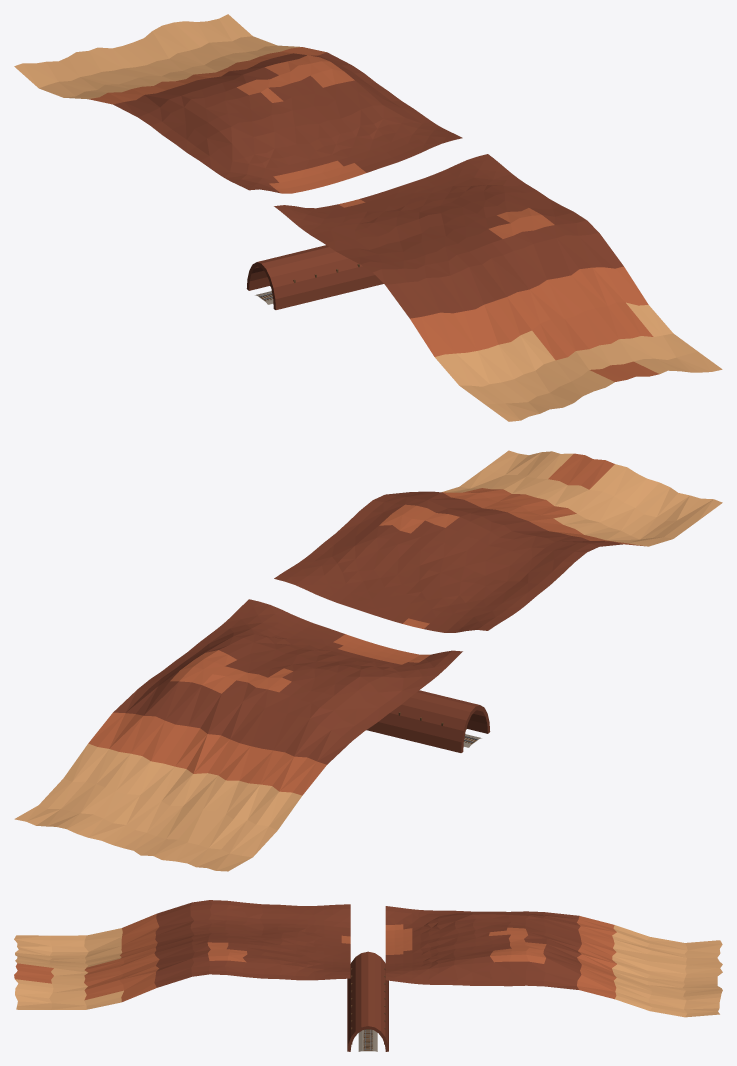
The model's file is SM_FG_Chunk_Tunnel_Mid_A.fbx.
3 renders of one model, top to bottom at view 1: azimuth 30°, elevation 25°; view 2: azimuth 150°, elevation 25°; view 3: azimuth 270°, elevation 25°, orthographic. The views are drawn at different scales.
Visible parts, largest first — view 1: FG_Chunk_Tunnel_Mid_A_Ground, FG_Chunk_Tunnel_Mid_A_SceneryNear; view 2: FG_Chunk_Tunnel_Mid_A_Ground, FG_Chunk_Tunnel_Mid_A_SceneryNear; view 3: FG_Chunk_Tunnel_Mid_A_Ground, FG_Chunk_Tunnel_Mid_A_SceneryNear, FG_Chunk_Tunnel_Mid_A_Track.
Boxes of the visible parts, box(x1,y1,x2,y2) form: FG_Chunk_Tunnel_Mid_A_Ground: box(14, 14, 722, 421); FG_Chunk_Tunnel_Mid_A_SceneryNear: box(246, 245, 383, 309); FG_Chunk_Tunnel_Mid_A_Ground: box(14, 450, 722, 871); FG_Chunk_Tunnel_Mid_A_SceneryNear: box(366, 690, 490, 752); FG_Chunk_Tunnel_Mid_A_Ground: box(14, 900, 722, 1017); FG_Chunk_Tunnel_Mid_A_SceneryNear: box(347, 951, 388, 1051); FG_Chunk_Tunnel_Mid_A_Track: box(358, 1029, 377, 1051).
Size of the model in its own units: 5000 by 20142 by 2586.
